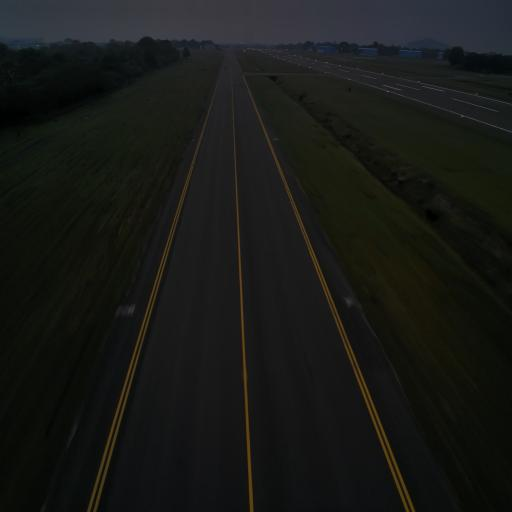off: (127, 304, 133, 316)
on: (346, 291, 352, 305), (274, 135, 276, 140), (192, 137, 194, 141)
